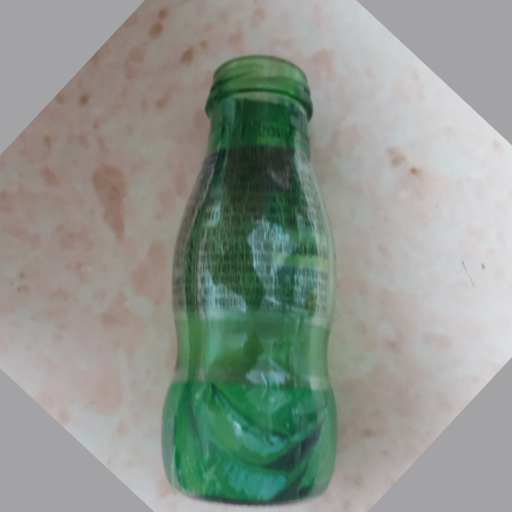Glass_4: (158, 53, 340, 506)
